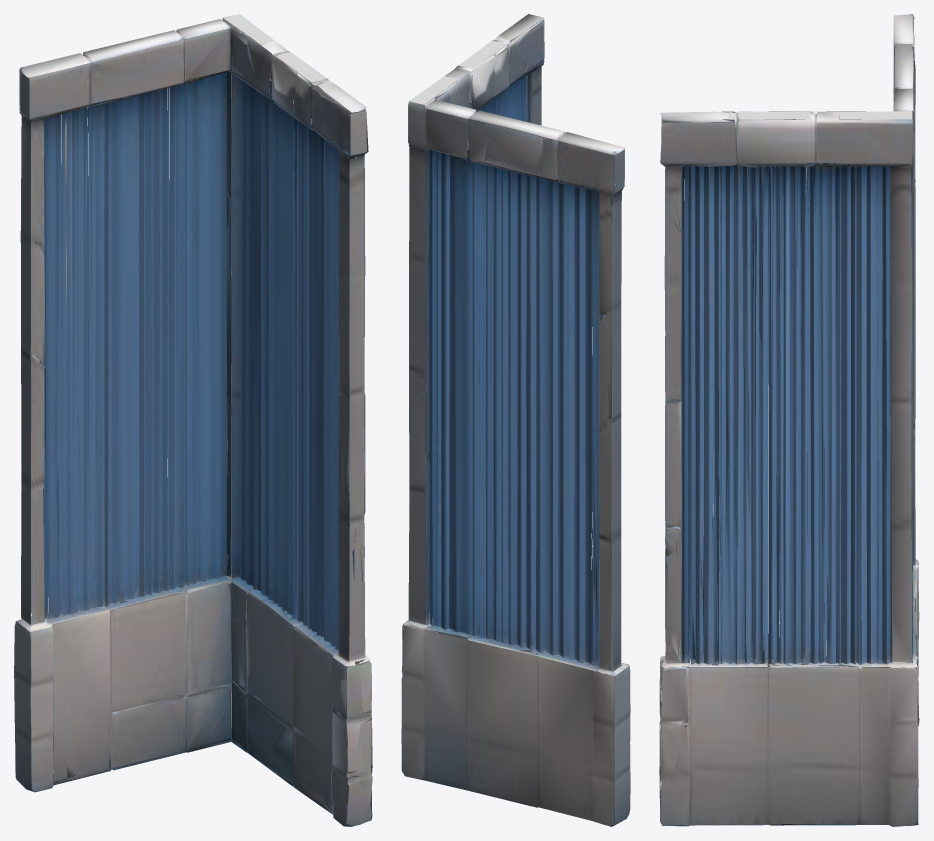
File: inner_corner.glb
3 renders of one model, left to right at view 1: azimuth 30°, elevation 25°; view 2: azimuth 150°, elevation 25°; view 3: azimuth 270°, elevation 25°, orthographic. The views are drawn at different scales.
Visible parts, largest first — view 1: Industrial_inner_corner; view 2: Industrial_inner_corner; view 3: Industrial_inner_corner.
Part boxes in pixels (left/top/right/bottom): Industrial_inner_corner: left=14, top=14, right=372, bottom=826; Industrial_inner_corner: left=401, top=14, right=630, bottom=826; Industrial_inner_corner: left=659, top=14, right=919, bottom=826.
Bounding box in the file's own units: 1 × 3 × 1.
1 material, 1 textured.
